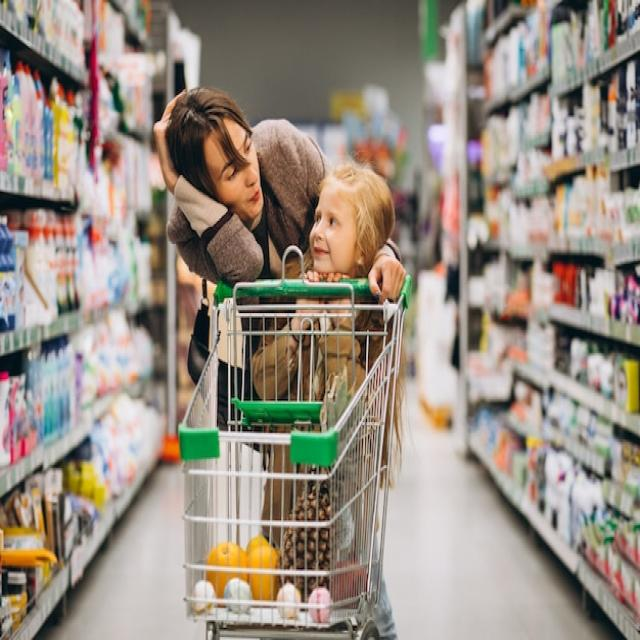Person: (156, 86, 402, 451), (252, 165, 396, 539)
